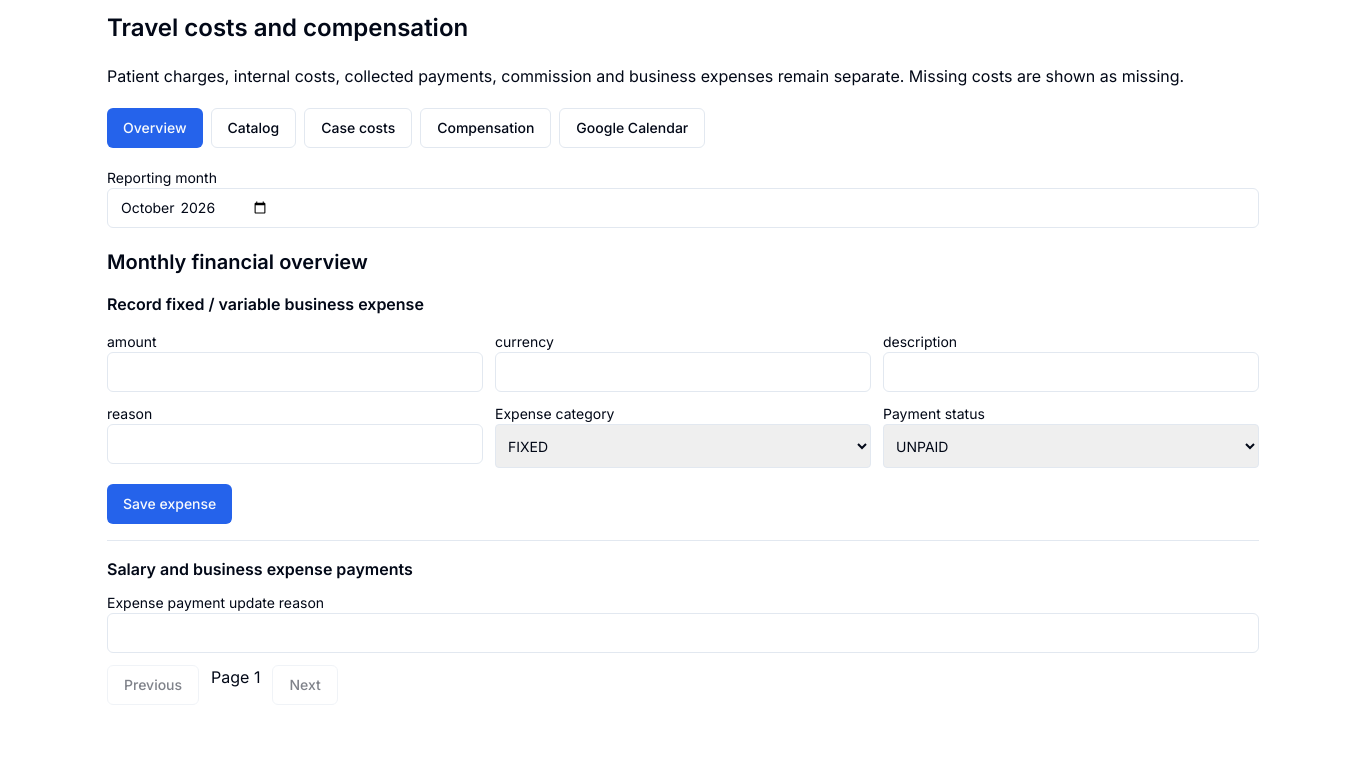
Test: prevents a second expense save while the first request is pending
Click the button "Save expense" at (170, 504), box x1=107 y1=484 x2=232 y2=524
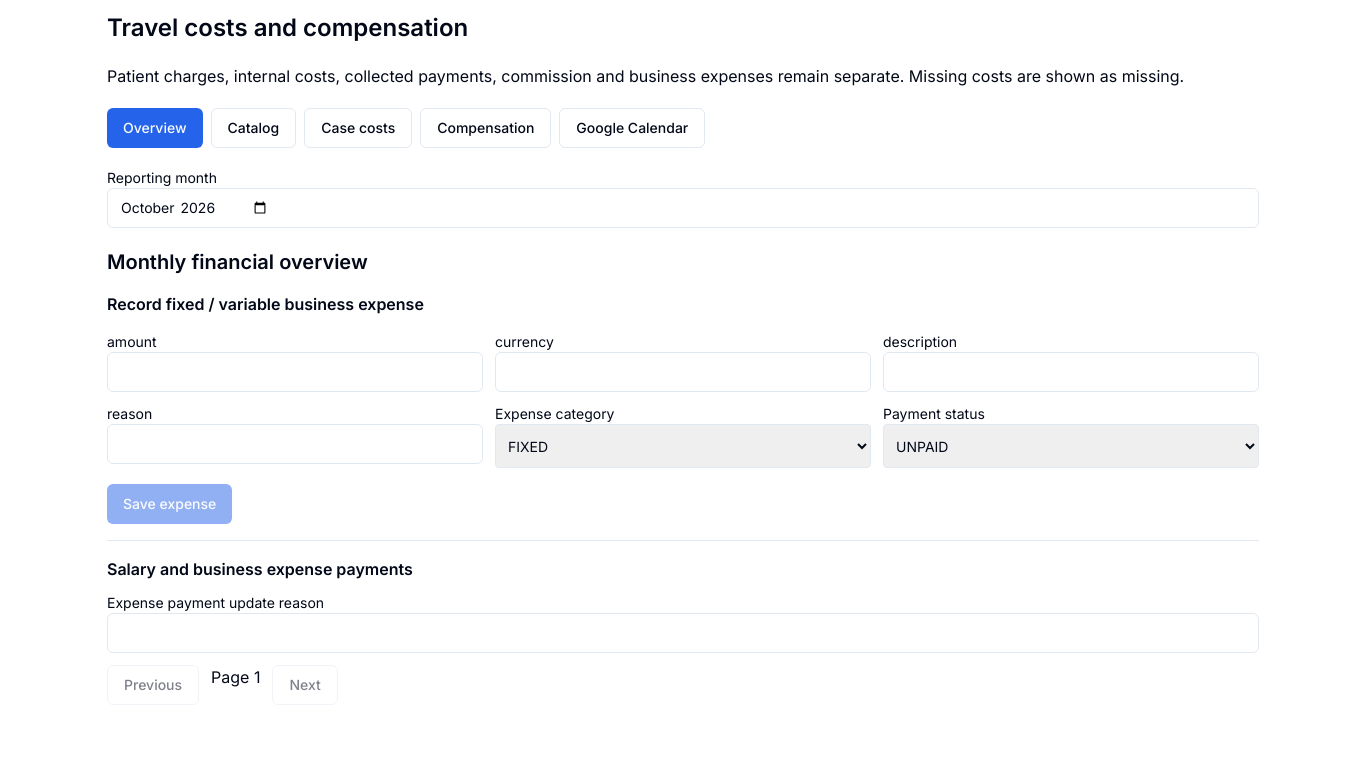
Check: the button "Save expense" is disabled
Click the button "Save expense" at (170, 504), box x1=107 y1=484 x2=232 y2=524
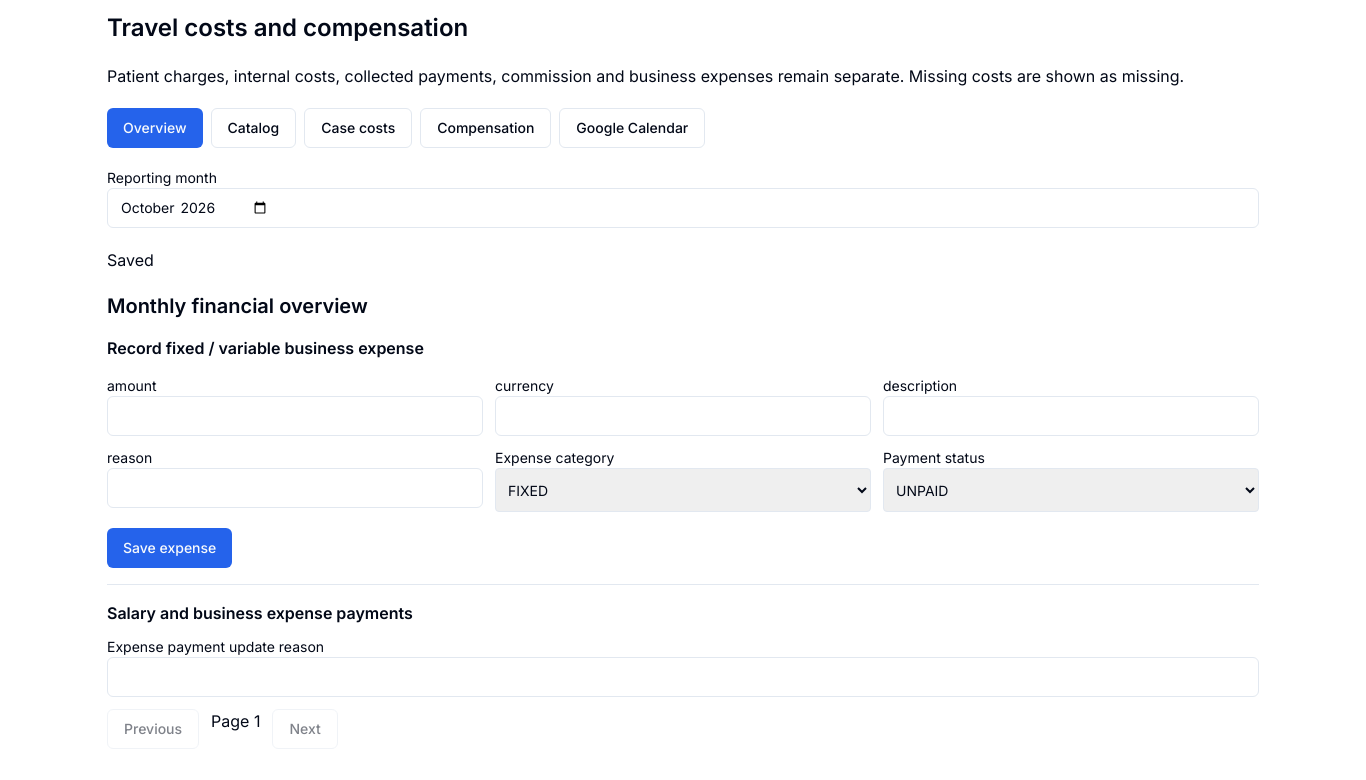
Check: the button "Save expense" is enabled, box x1=107 y1=528 x2=232 y2=568
